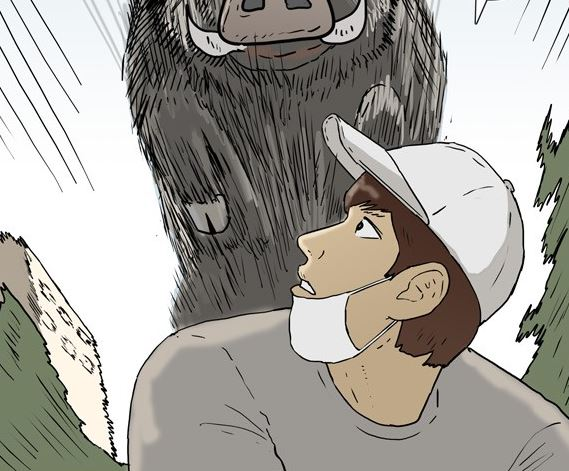hat: (319, 113, 535, 324)
